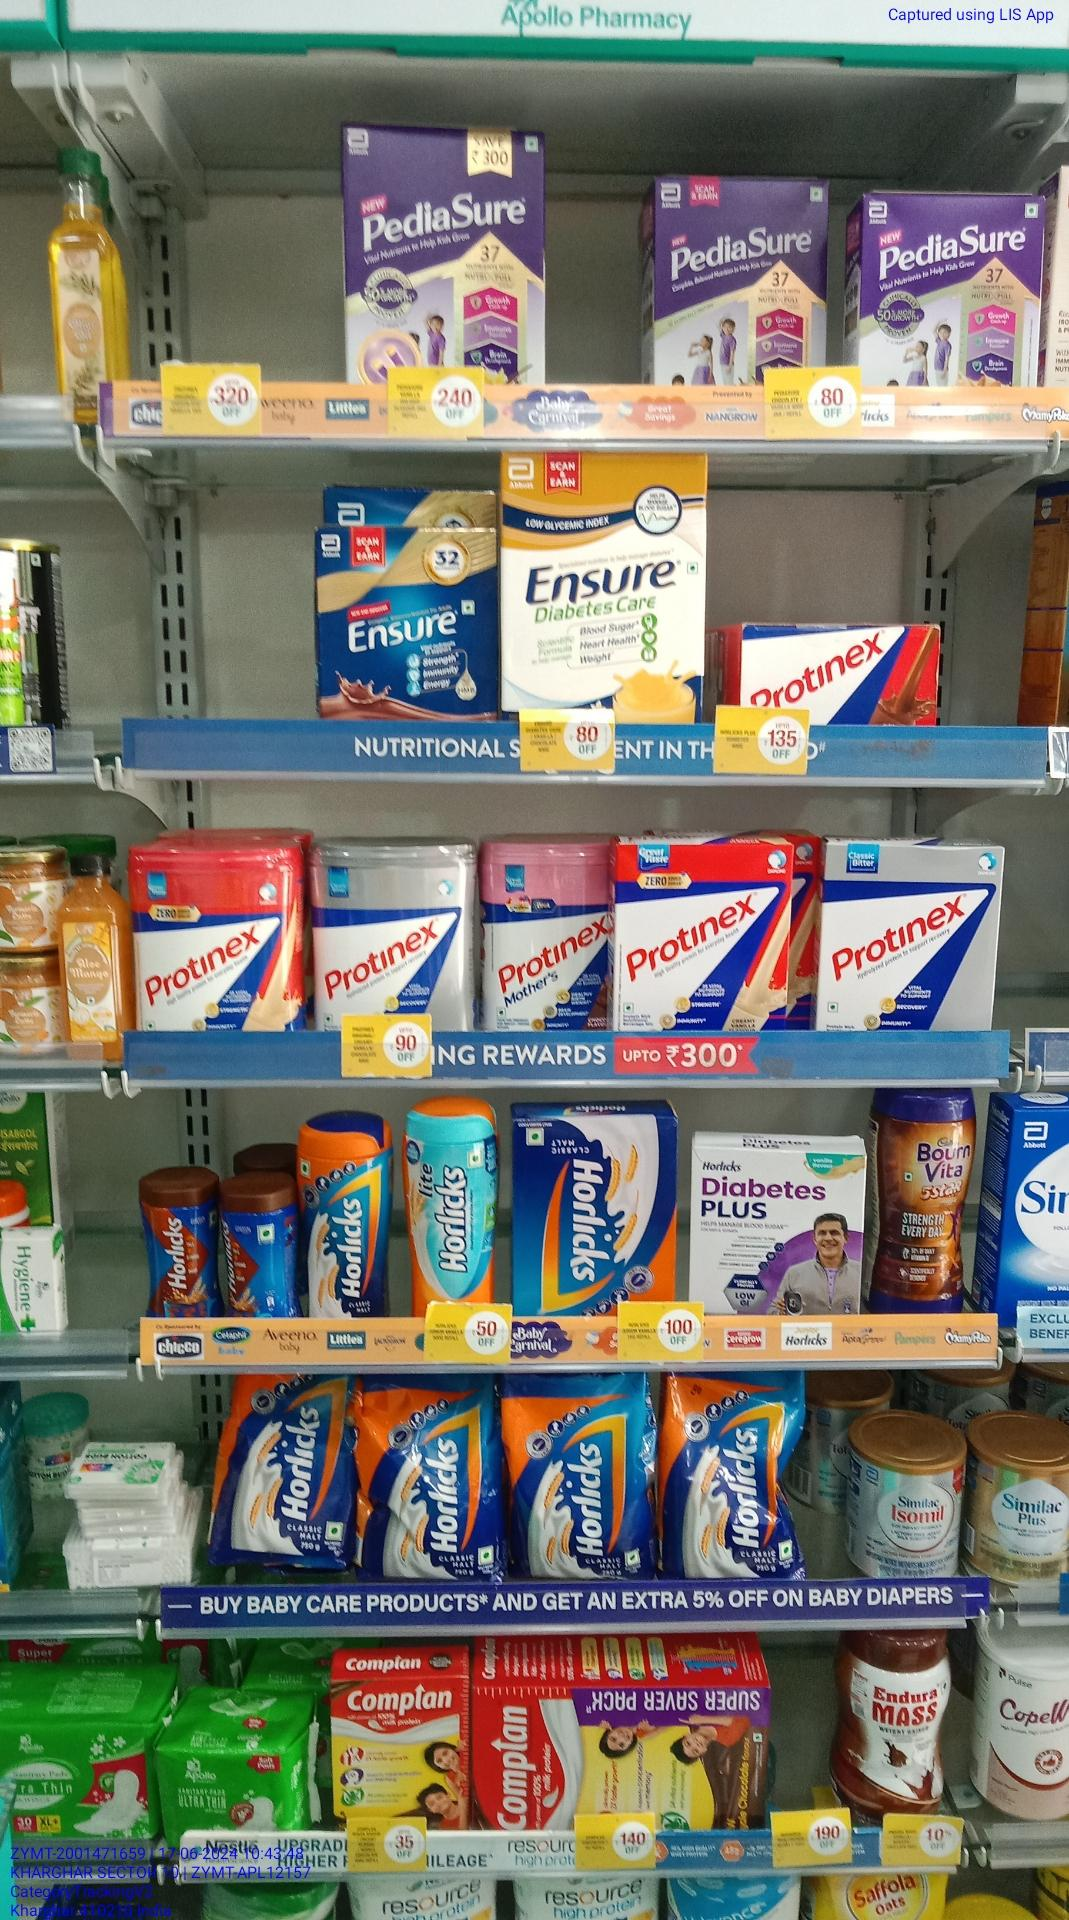BOURN_VITA_FIVE_STAR_MAGIC_500_G_JAR: (878, 1086, 978, 1315)
HORLICKS_LITE_REGULAR_MALT_500_GM_JAR: (402, 1104, 500, 1308)
HORLICK_CHOCOLATE_200_G_JAR: (140, 1180, 215, 1316), (222, 1192, 282, 1316)
HORLICK_CLASSIC_MALT_500_G_JAR: (301, 1120, 391, 1320)
HORLICK_CLASSIC_MALT_750_G_POUCH: (507, 1378, 648, 1579), (362, 1378, 498, 1584), (666, 1374, 799, 1583), (222, 1373, 352, 1563)
PROTINEX_ORIGINAL_400_G_JAR: (309, 847, 469, 1036)
PROTINEX_VANILLA_400_G_JAR: (129, 850, 291, 1033)
